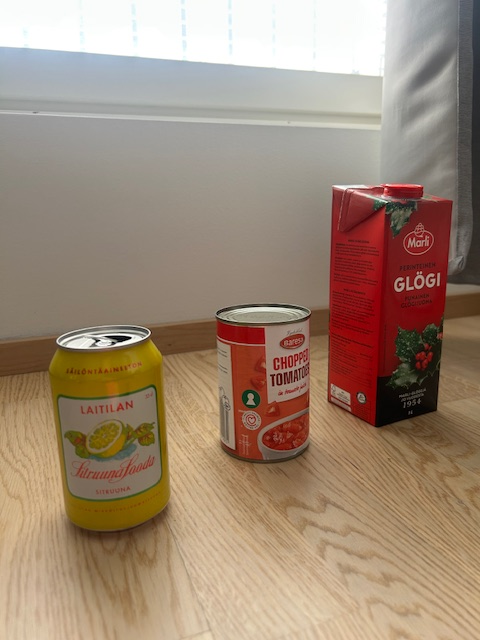Dryckeskartong: (327, 183, 454, 428)
Konservburk: (214, 303, 312, 464)
Pantburk: (48, 324, 171, 534)
